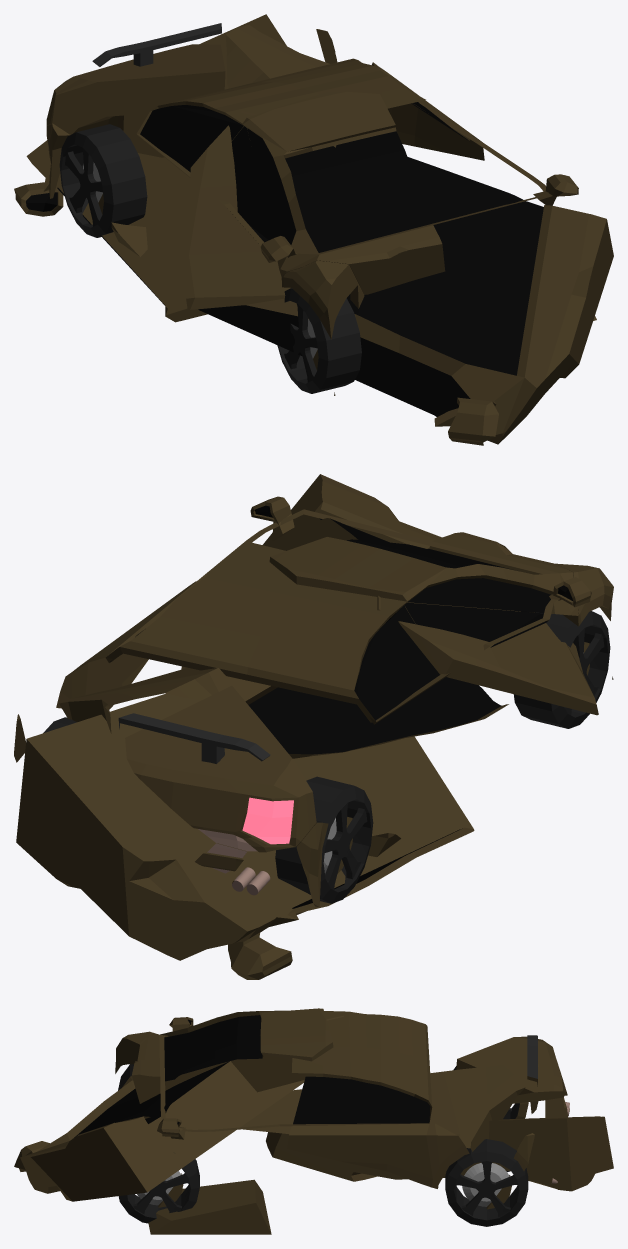
Rendered from brokenFast.fbx.
3 views of the same model, one above another, from view 1: azimuth 30°, elevation 25°; view 2: azimuth 150°, elevation 25°; view 3: azimuth 270°, elevation 25° (orthographic). The views are drawn at different scales.
Parts seen in each view (by area): view 1: Cube.004_cell.029, Cube.004_cell.003, Cube.004_cell.027, Cube.004_cell.019, BR, Cube.004_cell.020, Cube.004_cell.016, FR, Cube.004_cell.028, Cube.004_cell.017, Cube.004_cell.006, Cube.004_cell.022 (+4 smaller); view 2: Cube.004_cell.027, Cube.004_cell.020, Cube.004_cell.019, Cube.004_cell.003, Cube.004_cell.029, Cube.004_cell.028, Cube.004_cell.016, BR, FR, Cube.004_cell.022, Cube.004_cell.006, Cube.004_cell.025 (+5 smaller); view 3: Cube.004_cell.029, Cube.004_cell.006, Cube.004_cell.003, Cube.004_cell.027, Cube.004_cell.020, Cube.004_cell.028, BL, Cube.004_cell.011, Cube.004_cell.019, FL, Cube.004_cell.016, Cube.004_cell.017 (+5 smaller).
Part boxes in pixels (<box>): Cube.004_cell.029: <box>186,111,613,445</box>; Cube.004_cell.003: <box>242,91,445,294</box>; Cube.004_cell.027: <box>14,14,286,322</box>; Cube.004_cell.019: <box>46,44,225,157</box>; BR: <box>59,124,147,237</box>; Cube.004_cell.020: <box>162,58,548,254</box>; Cube.004_cell.016: <box>136,82,300,177</box>; FR: <box>277,288,361,393</box>; Cube.004_cell.028: <box>225,25,329,88</box>; Cube.004_cell.017: <box>281,260,364,339</box>; Cube.004_cell.006: <box>355,59,484,160</box>; Cube.004_cell.022: <box>230,125,272,243</box>; Cube.004_cell.027: <box>16,693,474,979</box>; Cube.004_cell.020: <box>106,509,558,722</box>; Cube.004_cell.019: <box>125,685,316,852</box>; Cube.004_cell.003: <box>269,532,591,615</box>; Cube.004_cell.029: <box>262,474,598,715</box>; Cube.004_cell.028: <box>59,667,508,758</box>; Cube.004_cell.016: <box>247,589,449,724</box>; BR: <box>275,776,373,903</box>; FR: <box>513,611,610,728</box>; Cube.004_cell.022: <box>404,602,549,647</box>; Cube.004_cell.006: <box>56,581,196,709</box>; Cube.004_cell.025: <box>118,713,270,763</box>; Cube.004_cell.029: <box>14,1015,343,1201</box>; Cube.004_cell.006: <box>287,1073,469,1188</box>; Cube.004_cell.003: <box>132,1008,333,1103</box>; Cube.004_cell.027: <box>266,1116,613,1191</box>; Cube.004_cell.020: <box>159,1011,432,1131</box>; Cube.004_cell.028: <box>241,1064,525,1162</box>; BL: <box>445,1139,528,1226</box>; Cube.004_cell.011: <box>148,1179,271,1234</box>; Cube.004_cell.019: <box>456,1036,567,1103</box>; FL: <box>118,1159,199,1223</box>; Cube.004_cell.016: <box>365,1014,429,1063</box>; Cube.004_cell.017: <box>115,1031,151,1073</box>.
Bounding box in the file's own units: 247 × 136 × 451.
